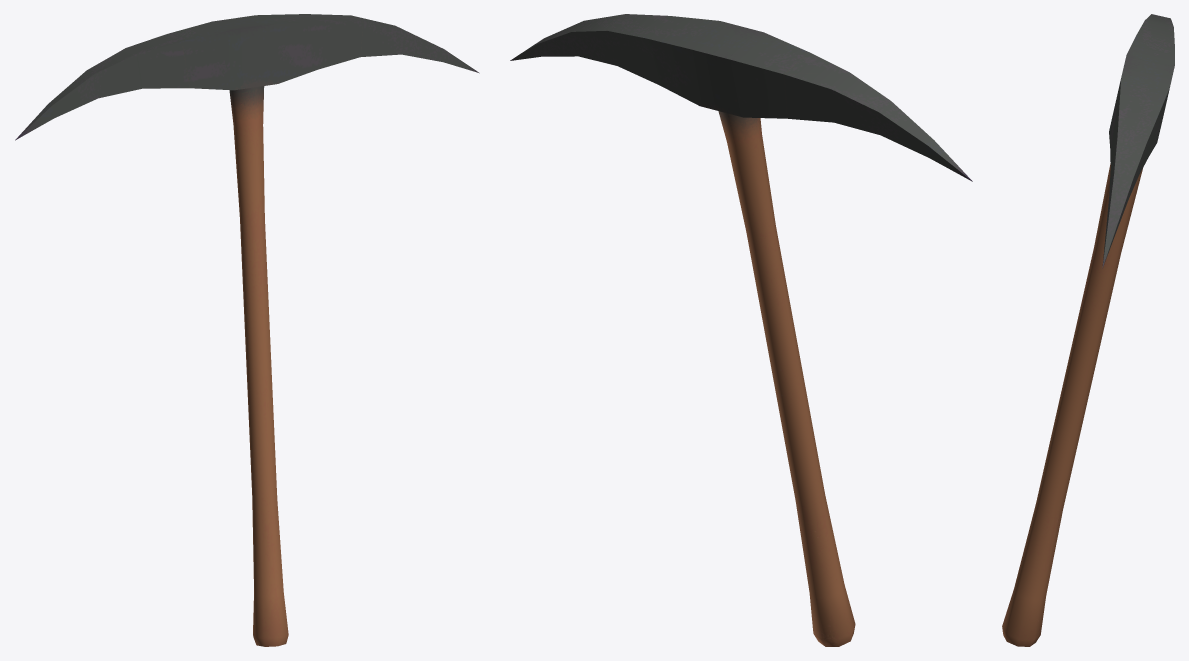
The model's file is VillagerPickaxe.fbx.
The picture shows the model from 3 angles, left to right: view 1: azimuth 30°, elevation 25°; view 2: azimuth 150°, elevation 25°; view 3: azimuth 270°, elevation 25°; orthographic projection. The views are drawn at different scales.
Visible parts, largest first — view 1: node_id4; view 2: node_id4; view 3: node_id4.
Boxes of the visible parts, bbox=[...] form: node_id4: bbox=[15, 14, 479, 646]; node_id4: bbox=[510, 14, 972, 646]; node_id4: bbox=[1002, 14, 1174, 646].
Bounding box in the file's own units: 0.4064 × 0.5084 × 0.1342.
1 material, 1 textured.
